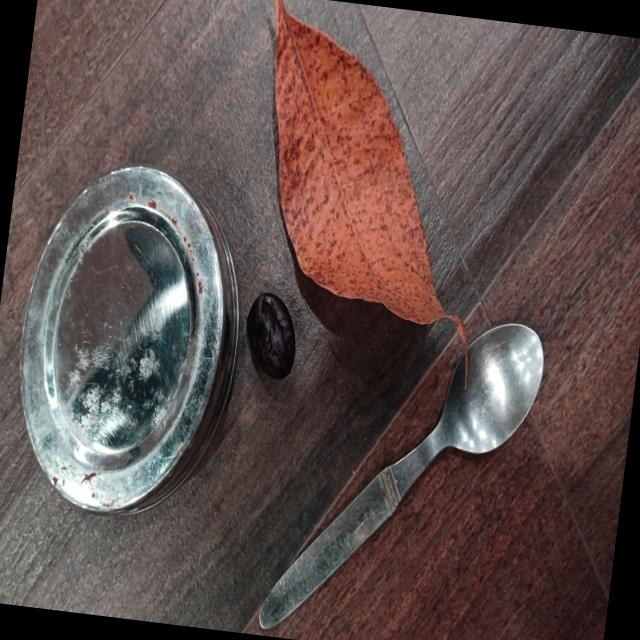Date-Bio: (243, 288, 304, 383)
Leaf-Bio: (232, 0, 501, 332)
Steel-NonBio: (236, 279, 554, 640), (5, 146, 262, 531)
